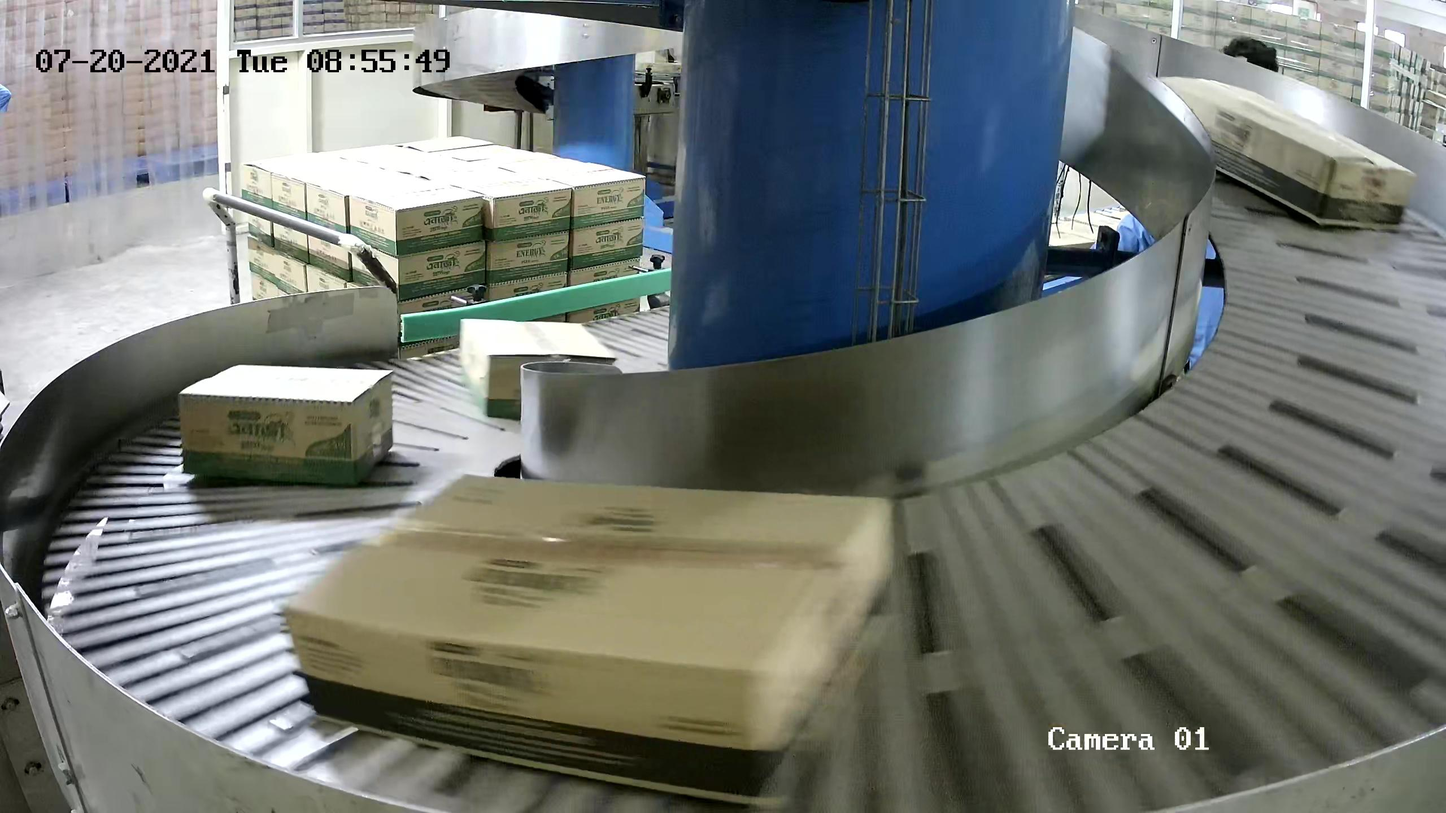Box: (279, 466, 901, 813), (1153, 75, 1419, 231), (177, 363, 396, 490), (456, 317, 620, 419)
